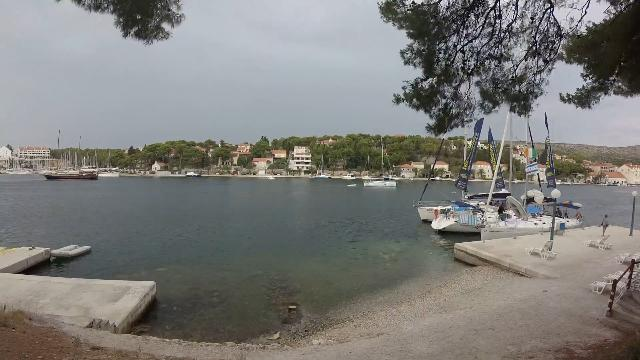Freighter: (36, 162, 104, 184)
Sailboat: (360, 173, 398, 190)
